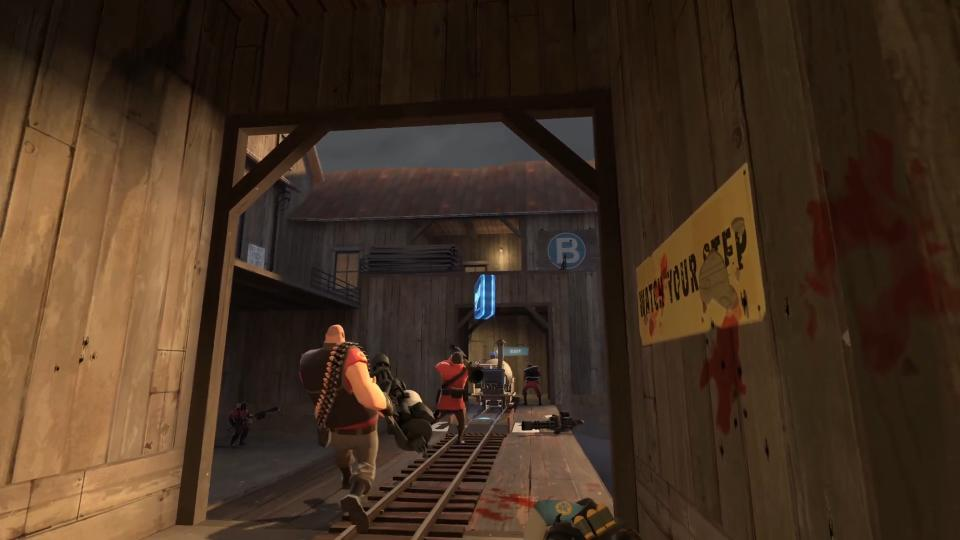Enemy: (294, 321, 431, 502), (522, 499, 643, 539), (435, 345, 469, 441), (214, 406, 274, 447), (524, 364, 543, 410)
